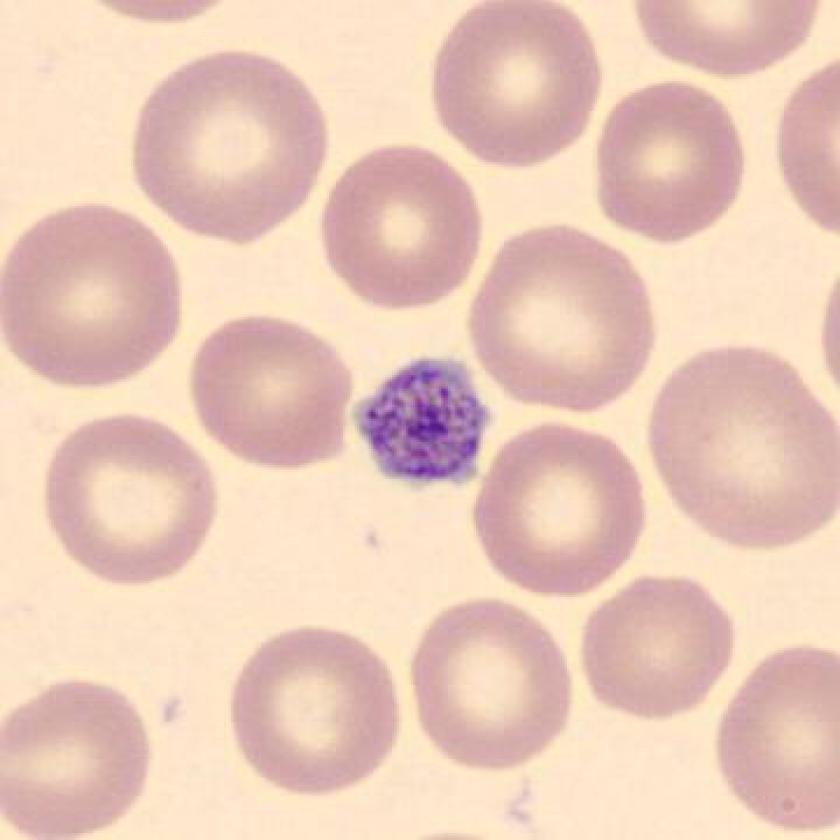platelets: (337, 346, 500, 505)
